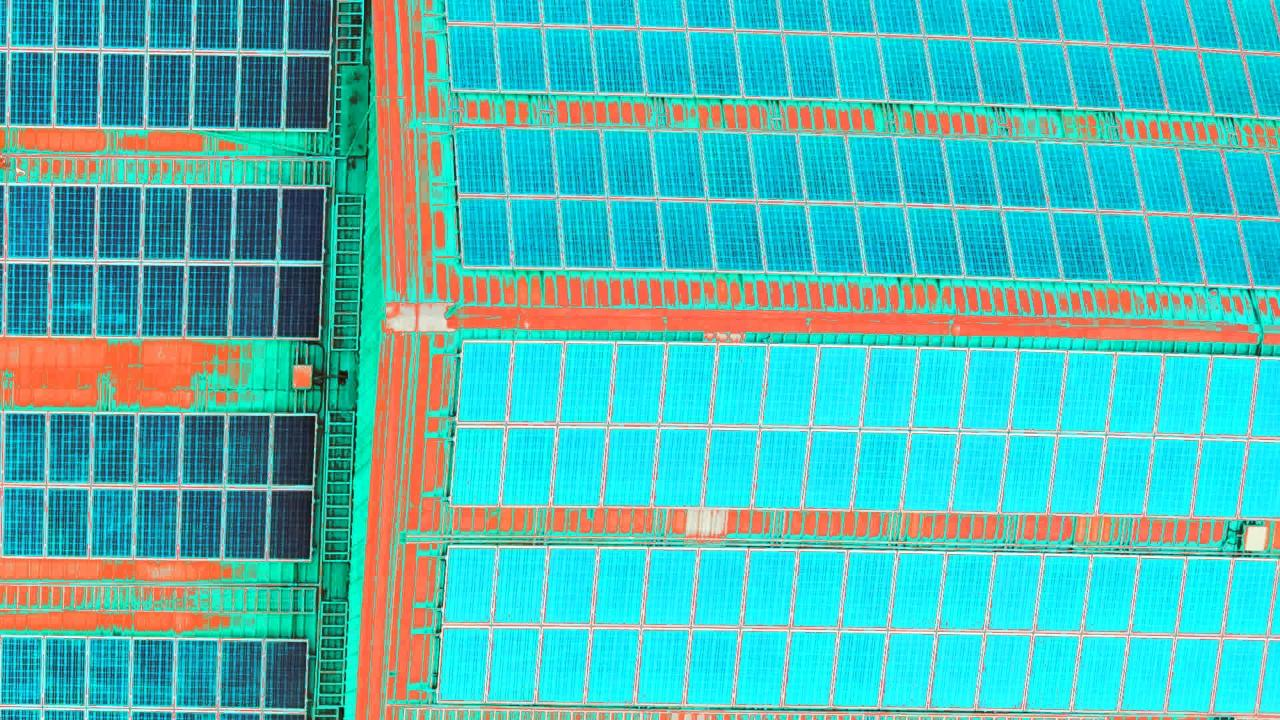clean: (5, 189, 322, 343), (6, 413, 320, 562), (6, 5, 334, 128), (8, 640, 310, 720)
dirty: (444, 340, 1280, 518), (435, 547, 1280, 718), (447, 124, 1280, 280), (444, 4, 1280, 101)
